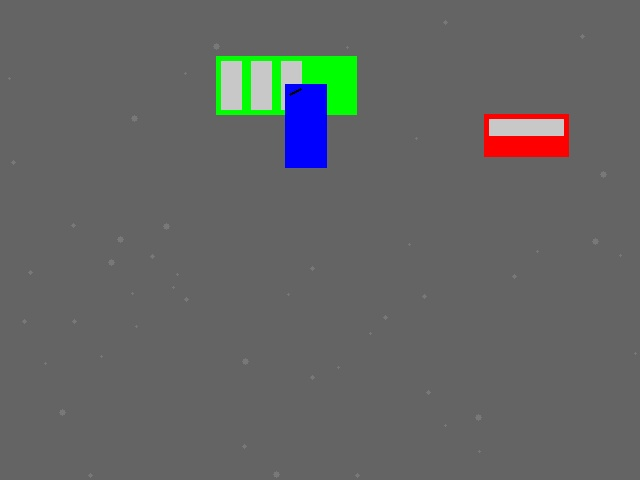bus: (216, 56, 356, 114)
car: (484, 114, 568, 156)
motorcycle: (285, 84, 326, 167)
